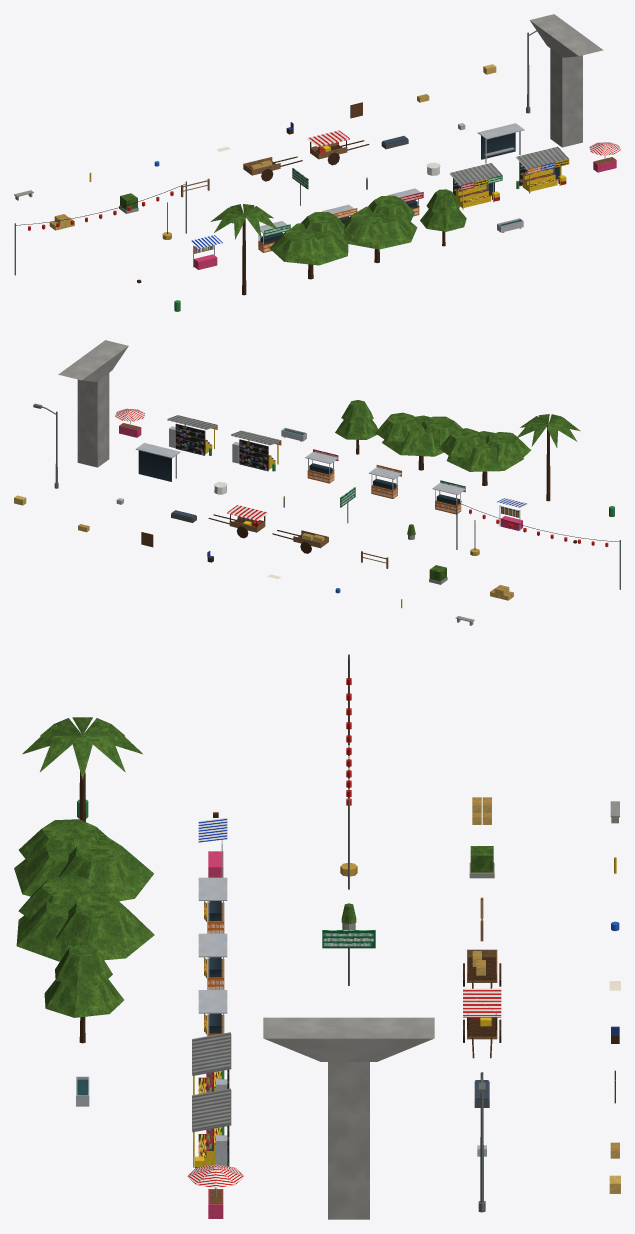
File: PropLibrary.fbx
3 views of the same model, one above another, from view 1: azimuth 30°, elevation 25°; view 2: azimuth 150°, elevation 25°; view 3: azimuth 270°, elevation 25° (orthographic). The views are drawn at different scales.
Parts seen in each view (by area): view 1: Skytrain_Pillar, TreeRain0_LOD0, TreeRain1_LOD0, StallShop1_LOD0, StallShop0_LOD0, TreeStreet_LOD0, TreePalm_LOD0, Shelter, HorseCartMarket_LOD0, StallClothes_LOD0, HorseCart_LOD0, StallUmbrella_LOD0 (+3 smaller); view 2: Skytrain_Pillar, TreeRain0_LOD0, TreeRain1_LOD0, StallShop0_LOD0, StallShop1_LOD0, TreePalm_LOD0, TreeStreet_LOD0, Shelter, HorseCartMarket_LOD0, StallFoodCart12_LOD0, StallFoodCart8_LOD0, StallFoodCart10_LOD0 (+4 smaller); view 3: Skytrain_Pillar, TreeRain1_LOD0, TreeRain0_LOD0, TreeStreet_LOD0, TreePalm_LOD0, StallShop1_LOD0, StallShop0_LOD0, HorseCartMarket_LOD0, StallUmbrella_LOD0, StallFoodCart12_LOD0, StallFoodCart10_LOD0, HorseCart_LOD0 (+5 smaller).
Boxes of the visible parts, x1,y1,x2,y2 form: Skytrain_Pillar: (530,14,603,147); TreeRain0_LOD0: (269,212,348,279); TreeRain1_LOD0: (343,195,417,263); StallShop1_LOD0: (516,146,569,193); StallShop0_LOD0: (450,163,502,209); TreeStreet_LOD0: (420,189,466,246); TreePalm_LOD0: (211,204,277,295); Shelter: (477,123,524,163); HorseCartMarket_LOD0: (307,130,369,165); StallClothes_LOD0: (190,235,222,269); HorseCart_LOD0: (243,156,302,181); StallUmbrella_LOD0: (589,142,620,172); Skytrain_Pillar: (58,340,128,467); TreeRain0_LOD0: (439,428,531,485); TreeRain1_LOD0: (375,412,462,470); StallShop0_LOD0: (231,430,281,471); StallShop1_LOD0: (167,415,217,455); TreePalm_LOD0: (516,414,580,501); TreeStreet_LOD0: (335,400,377,454); Shelter: (135,443,180,481); HorseCartMarket_LOD0: (208,505,267,538); StallFoodCart12_LOD0: (368,465,401,498); StallFoodCart8_LOD0: (305,449,338,483); StallFoodCart10_LOD0: (432,480,465,514); Skytrain_Pillar: (263,1017,434,1219); TreeRain1_LOD0: (16,875,154,961); TreeRain0_LOD0: (14,819,153,901); TreeStreet_LOD0: (44,944,124,1043); TreePalm_LOD0: (22,717,142,821); StallShop1_LOD0: (192,1088,231,1167); StallShop0_LOD0: (192,1032,231,1094); HorseCartMarket_LOD0: (463,988,501,1058); StallUmbrella_LOD0: (187,1164,244,1218); StallFoodCart12_LOD0: (198,933,227,989); StallFoodCart10_LOD0: (198,877,227,933); HorseCart_LOD0: (463,949,501,988).
Size of what is drawn, in the model's own units: 60.57 by 10.61 by 31.91.
